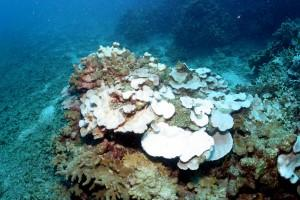bleached_corals: (70, 27, 258, 187)
